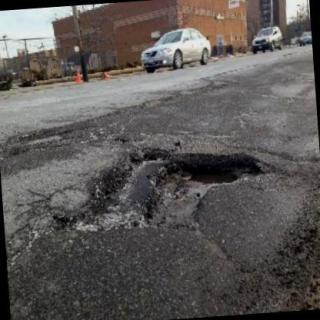pothole: (56, 148, 277, 257)
